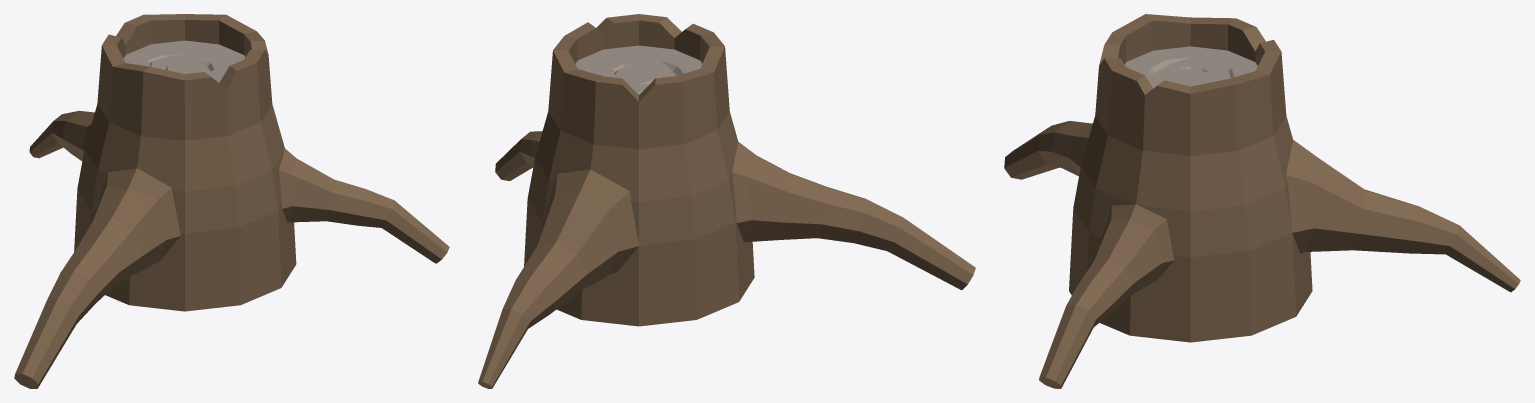
The model's file is NHP_Trunk_A1_01.fbx.
The picture shows the model from 3 angles, left to right: view 1: azimuth 30°, elevation 25°; view 2: azimuth 150°, elevation 25°; view 3: azimuth 270°, elevation 25°; orthographic projection. The views are drawn at different scales.
Parts seen in each view (by area): view 1: NHP_Trunk_A1_01_LOD0; view 2: NHP_Trunk_A1_01_LOD0; view 3: NHP_Trunk_A1_01_LOD0.
Boxes of the visible parts, box(x1,y1,x2,y2) form: NHP_Trunk_A1_01_LOD0: box(14, 14, 449, 388); NHP_Trunk_A1_01_LOD0: box(478, 14, 975, 388); NHP_Trunk_A1_01_LOD0: box(1004, 14, 1520, 388).
Size of what is drawn, in the model's own units: 1.94 by 0.9737 by 1.78.
